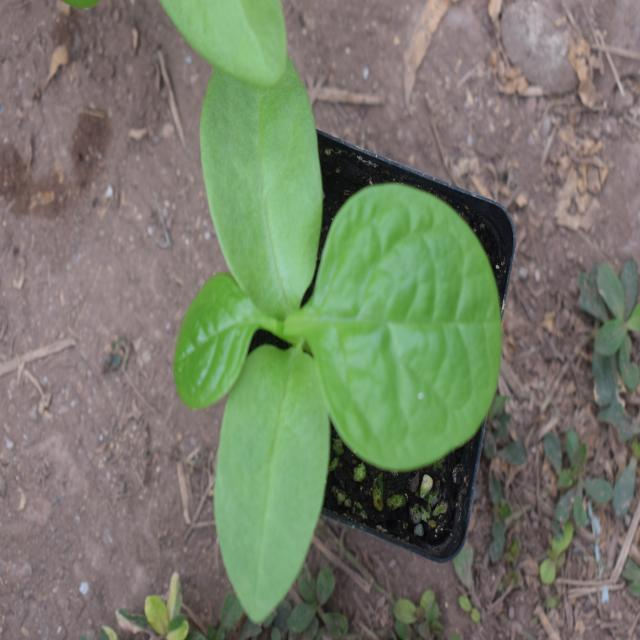Ceylon spinach: (177, 0, 490, 602)
